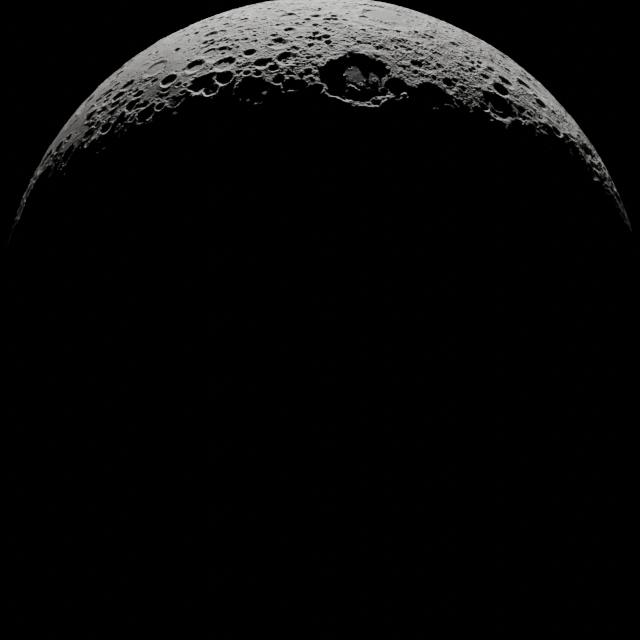crater: (484, 92, 514, 116), (280, 75, 303, 94), (136, 103, 156, 122), (164, 91, 186, 108), (213, 70, 234, 85), (159, 73, 178, 87), (491, 81, 510, 95), (147, 59, 167, 72), (252, 56, 273, 68), (216, 55, 236, 67), (185, 59, 204, 71), (277, 51, 295, 63), (98, 121, 113, 135), (498, 74, 513, 86), (125, 100, 139, 112), (516, 78, 531, 89), (153, 101, 167, 112), (120, 79, 135, 89), (410, 58, 426, 67), (550, 125, 562, 137), (534, 97, 547, 108), (442, 77, 456, 87), (242, 48, 257, 56), (271, 36, 286, 44), (324, 16, 339, 21), (283, 26, 295, 32), (322, 34, 332, 40), (284, 12, 296, 17), (312, 30, 321, 36), (324, 39, 333, 44)
rock: (200, 82, 219, 97), (505, 116, 521, 129)
